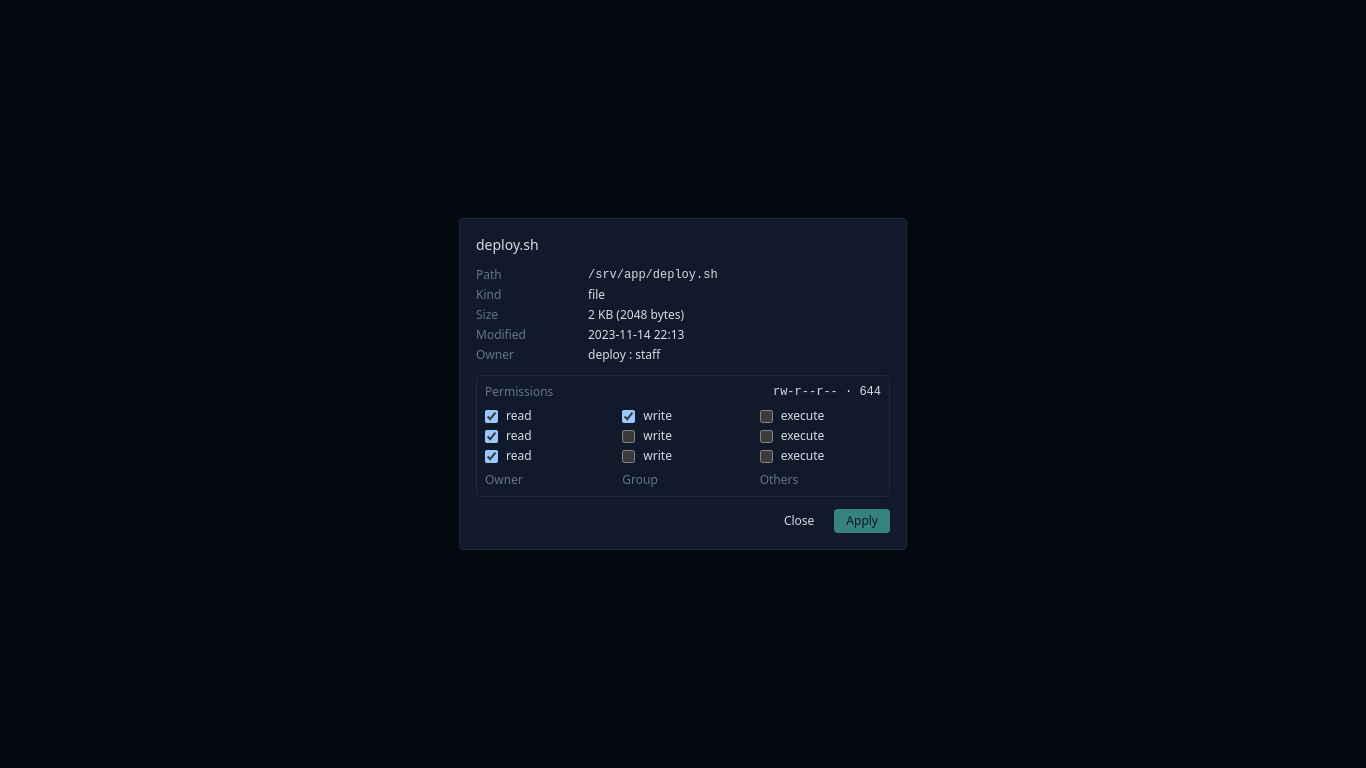
Test: PropertiesDialog › keeps the dialog open and shows the error when chmod fails
What coordinates should you click on to do the following:
click the checkbox named "Group write"
I would click on:
 (629, 436)
Its box is [622,430,635,442].
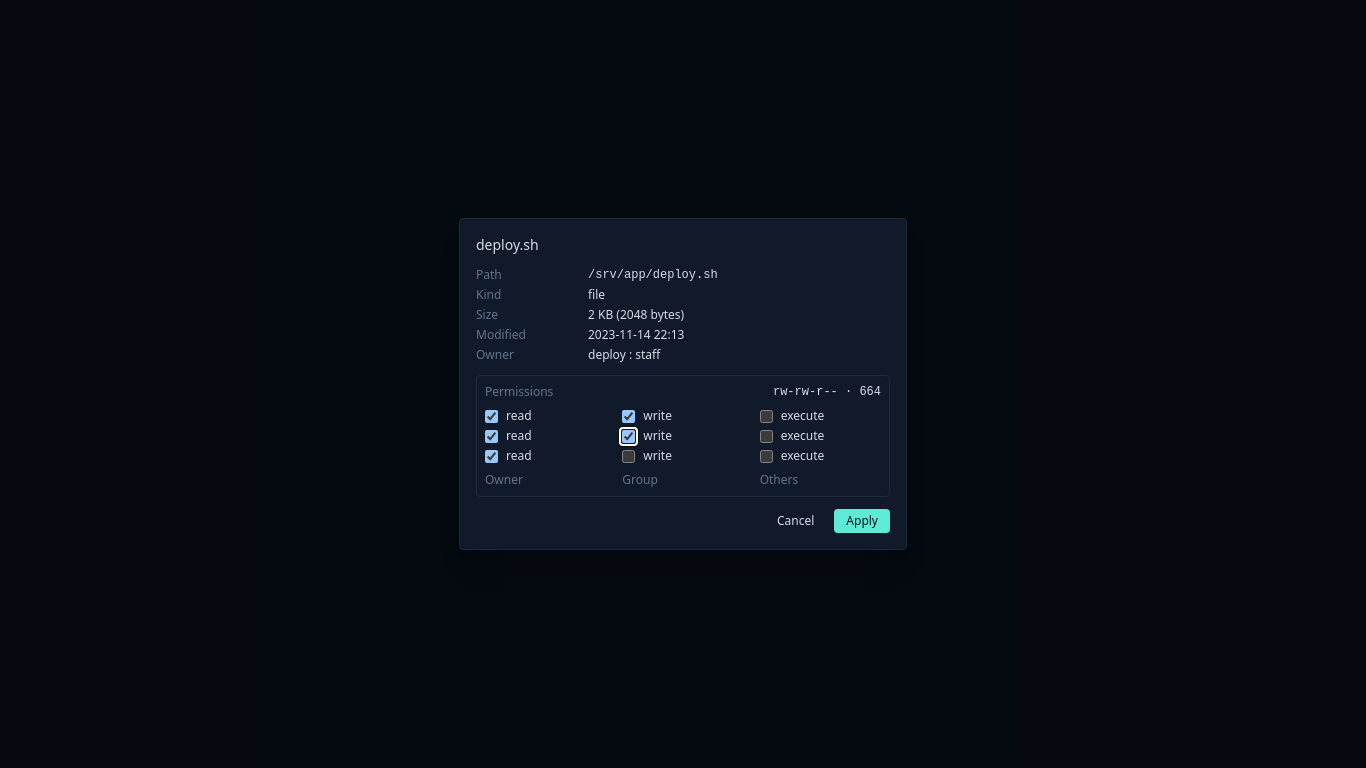
What coordinates should you click on to do the following:
click the button "Apply"
I would click on:
 (862, 521)
Its box is [834,509,890,533].
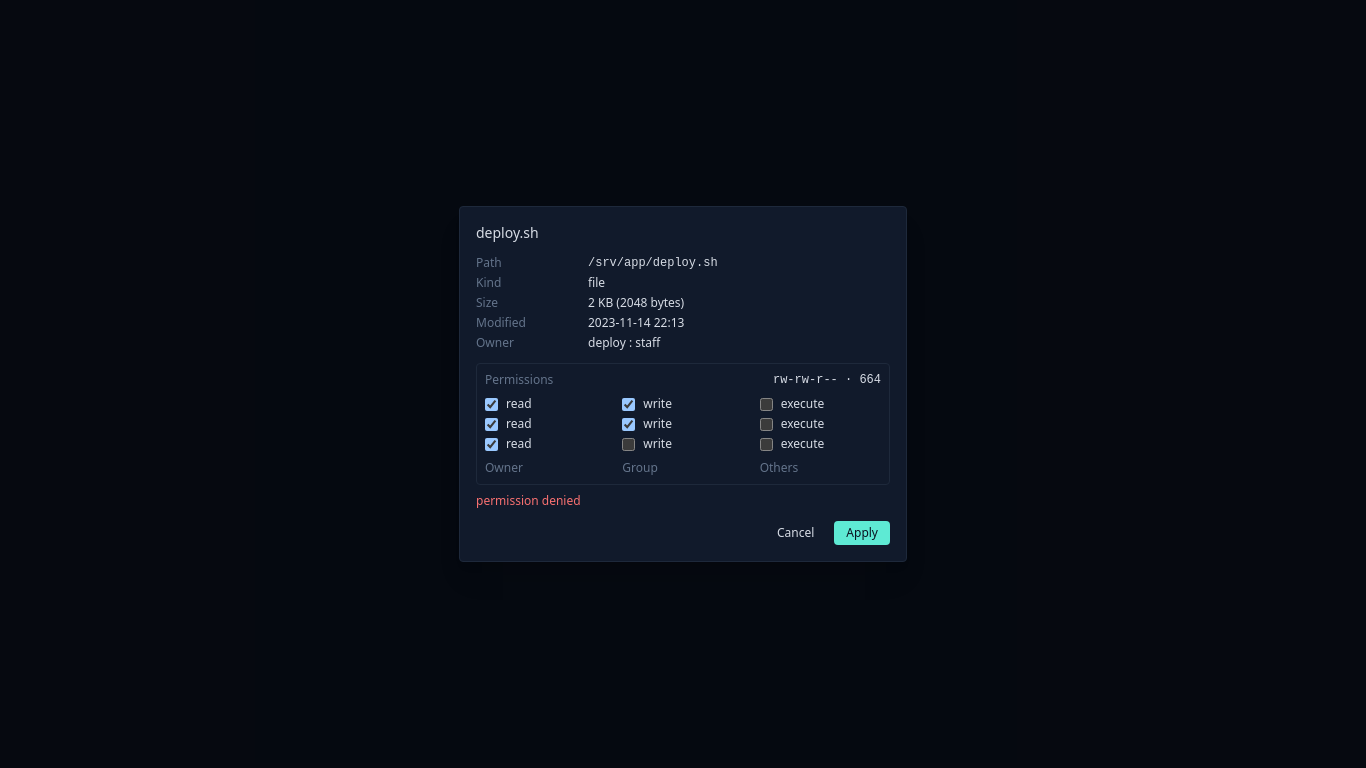
expect the message reads "permission denied": met, box [476,492,581,509]
